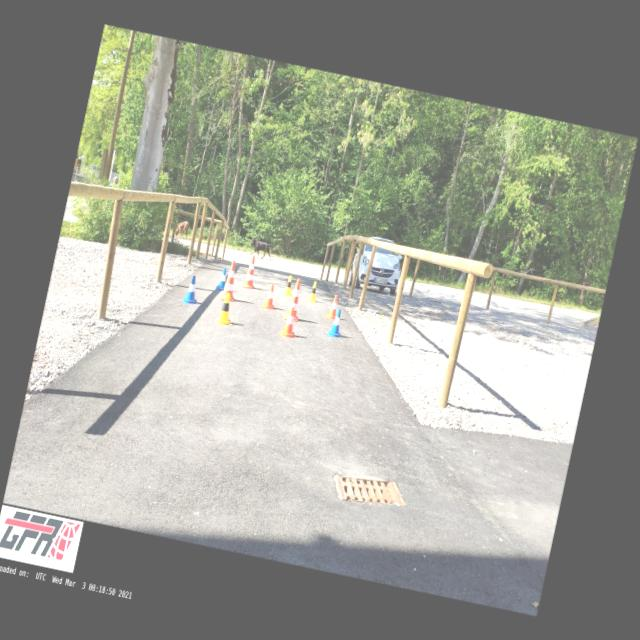blue_cone: (326, 306, 346, 338), (181, 274, 201, 305), (215, 266, 228, 292)
large_orange_cone: (283, 276, 306, 321), (219, 258, 242, 302), (240, 254, 260, 289)
orange_cone: (278, 304, 300, 339), (324, 292, 340, 320), (262, 283, 278, 310)
yellow_cone: (214, 292, 236, 326), (306, 280, 321, 303), (281, 274, 296, 296)
